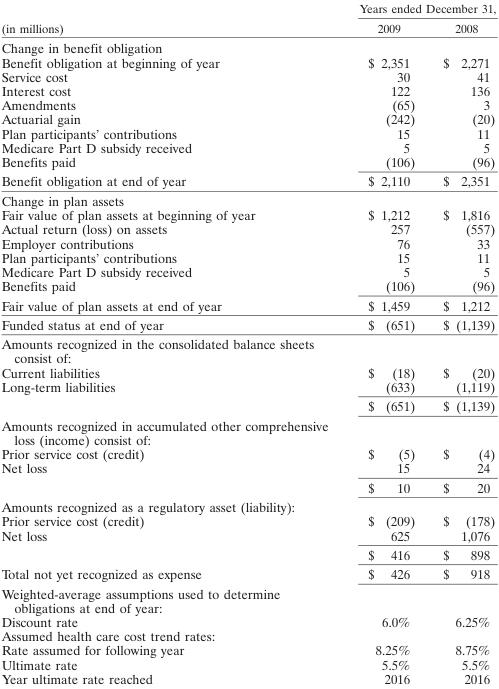table: (0, 1, 495, 686)
table column: (0, 1, 306, 686), (306, 1, 428, 686), (428, 1, 495, 686)
table column header: (0, 1, 495, 37)
table projected row header: (0, 334, 495, 365), (0, 415, 495, 446), (0, 583, 495, 614), (0, 37, 495, 54), (0, 190, 495, 207), (0, 496, 495, 513), (0, 628, 495, 642)
table row: (0, 334, 495, 365), (0, 415, 495, 446), (0, 583, 495, 614), (0, 17, 495, 37), (0, 314, 495, 334), (0, 544, 495, 564), (0, 171, 495, 190), (0, 295, 495, 314), (0, 396, 495, 415), (0, 477, 495, 496), (0, 564, 495, 583), (0, 37, 495, 54), (0, 154, 495, 171), (0, 190, 495, 207), (0, 278, 495, 295), (0, 379, 495, 396), (0, 460, 495, 477), (0, 496, 495, 513), (0, 527, 495, 544), (0, 1, 495, 17), (0, 54, 495, 69), (0, 111, 495, 126), (0, 235, 495, 250), (0, 642, 495, 657), (0, 671, 495, 686), (0, 69, 495, 83), (0, 83, 495, 97), (0, 97, 495, 111), (0, 126, 495, 140), (0, 140, 495, 154), (0, 207, 495, 221), (0, 221, 495, 235), (0, 250, 495, 264), (0, 264, 495, 278), (0, 365, 495, 379), (0, 446, 495, 460), (0, 513, 495, 527), (0, 614, 495, 628), (0, 628, 495, 642), (0, 657, 495, 671)
table spanning cell: (0, 1, 306, 37), (306, 1, 495, 17)
